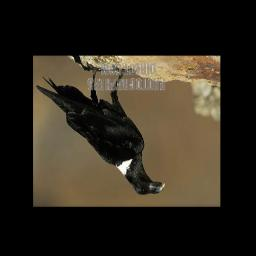Crow: (36, 62, 166, 195)
